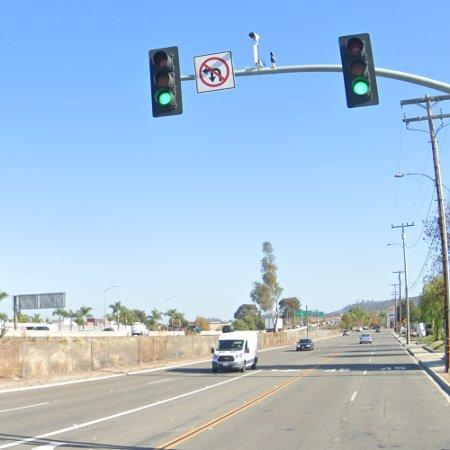traffic lights: (340, 33, 380, 108)
